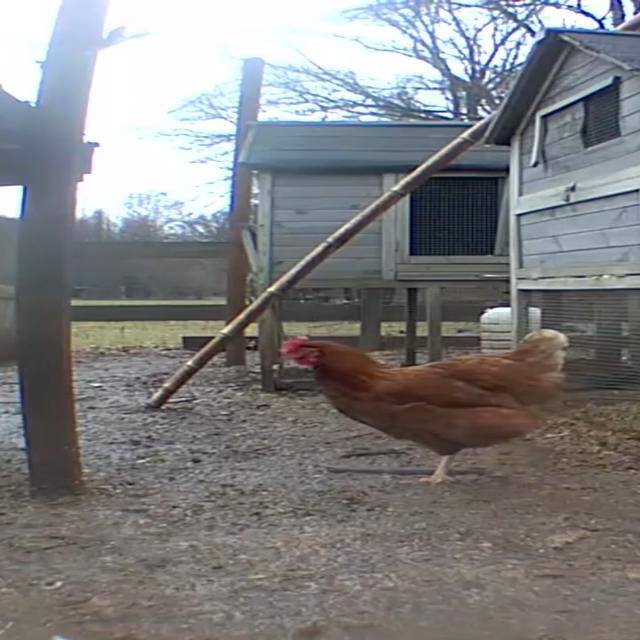walking: (272, 320, 584, 498)
